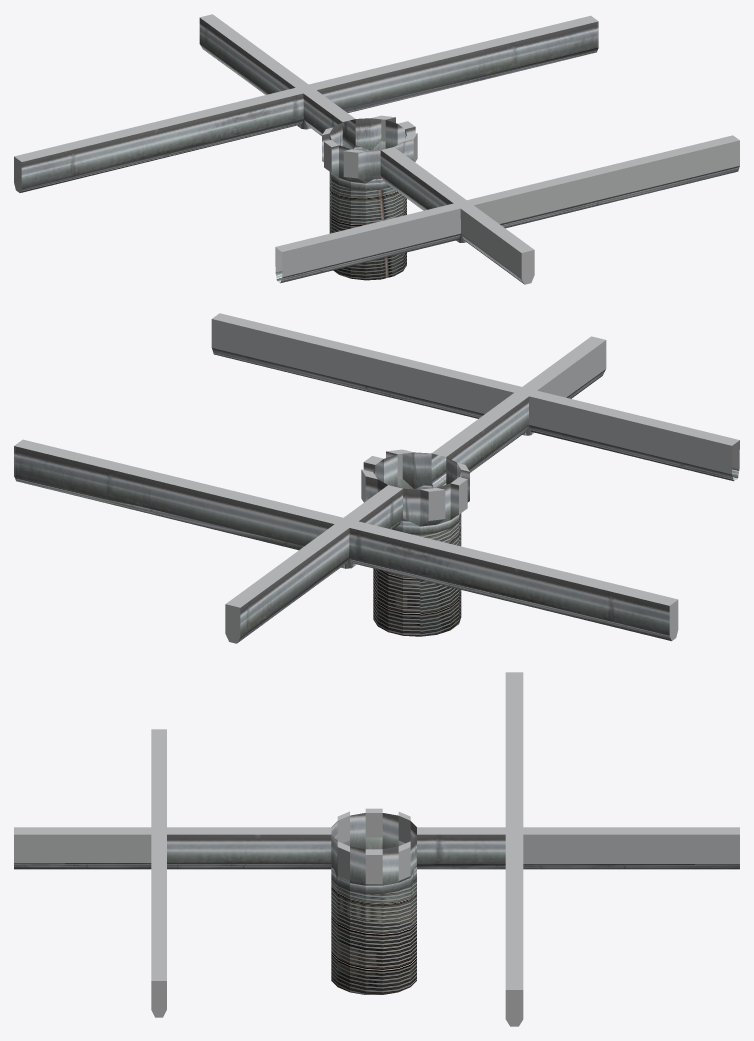
File: RoomB_Column.fbx
3 views of the same model, one above another, from view 1: azimuth 30°, elevation 25°; view 2: azimuth 150°, elevation 25°; view 3: azimuth 270°, elevation 25° (orthographic). The views are drawn at different scales.
Parts seen in each view (by area): view 1: Circle.033; view 2: Circle.033; view 3: Circle.033.
Boxes of the visible parts, bbox=[...] form: Circle.033: bbox=[14, 14, 739, 284]; Circle.033: bbox=[14, 313, 739, 643]; Circle.033: bbox=[14, 672, 739, 1026].
Size of the model in its own units: 127 by 27.2 by 123.
